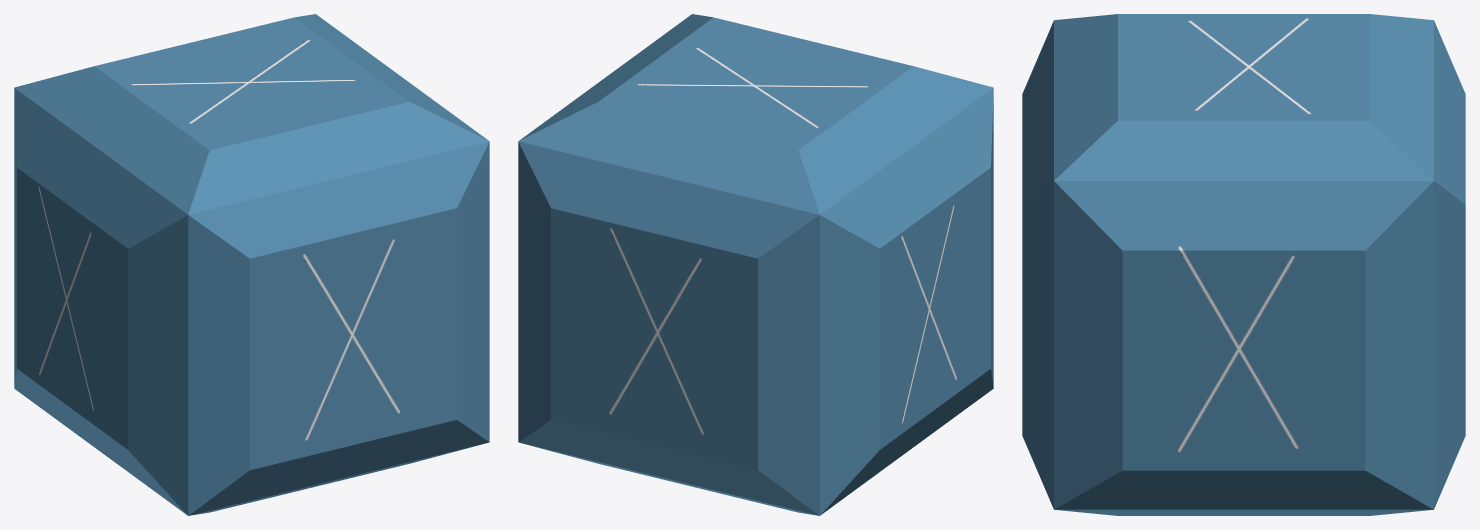
The model's file is rune_yggradsildeer_green.fbx.
The picture shows the model from 3 angles, left to right: view 1: azimuth 30°, elevation 25°; view 2: azimuth 150°, elevation 25°; view 3: azimuth 270°, elevation 25°; orthographic projection. The views are drawn at different scales.
Visible parts, largest first — view 1: rune_yggradsildeer.001; view 2: rune_yggradsildeer.001; view 3: rune_yggradsildeer.001.
Boxes of the visible parts, left/top/right/bottom form: rune_yggradsildeer.001: left=14, top=14, right=489, bottom=515; rune_yggradsildeer.001: left=518, top=14, right=993, bottom=515; rune_yggradsildeer.001: left=1022, top=14, right=1465, bottom=515.
Bounding box in the file's own units: 28.82 × 27.78 × 28.23.
